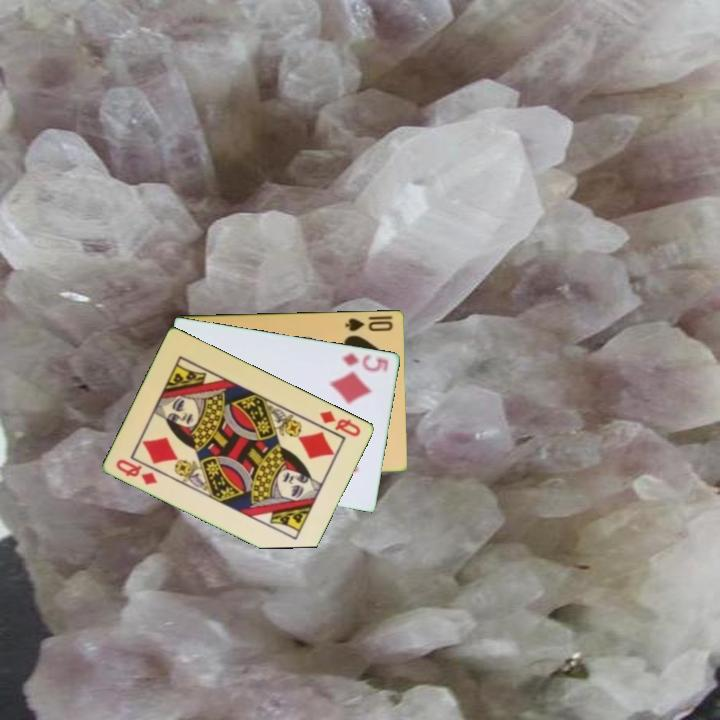10s: (342, 314, 396, 334)
5d: (339, 349, 392, 376)
Qd: (316, 407, 364, 440), (113, 455, 161, 488)
